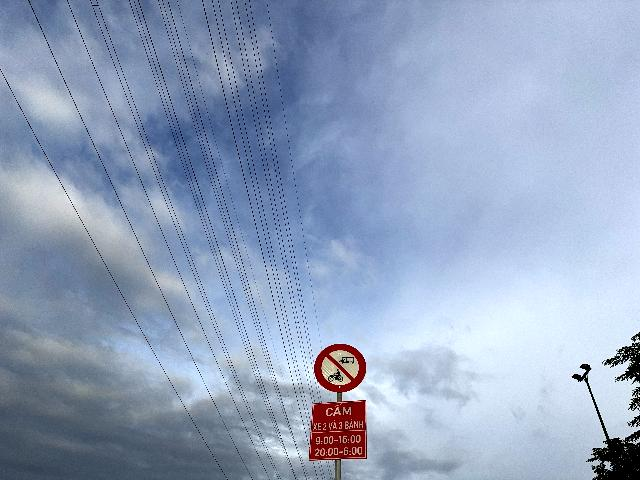cam-xe-2-banh-3-banh: (313, 343, 367, 392)
